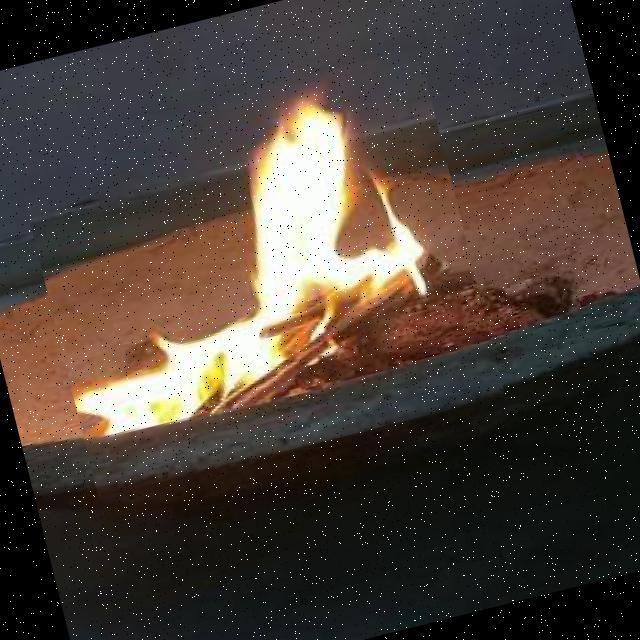fire: (12, 47, 504, 497)
